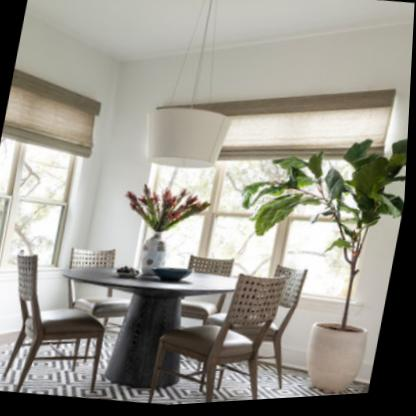Dining Table: (0, 225, 314, 415)
